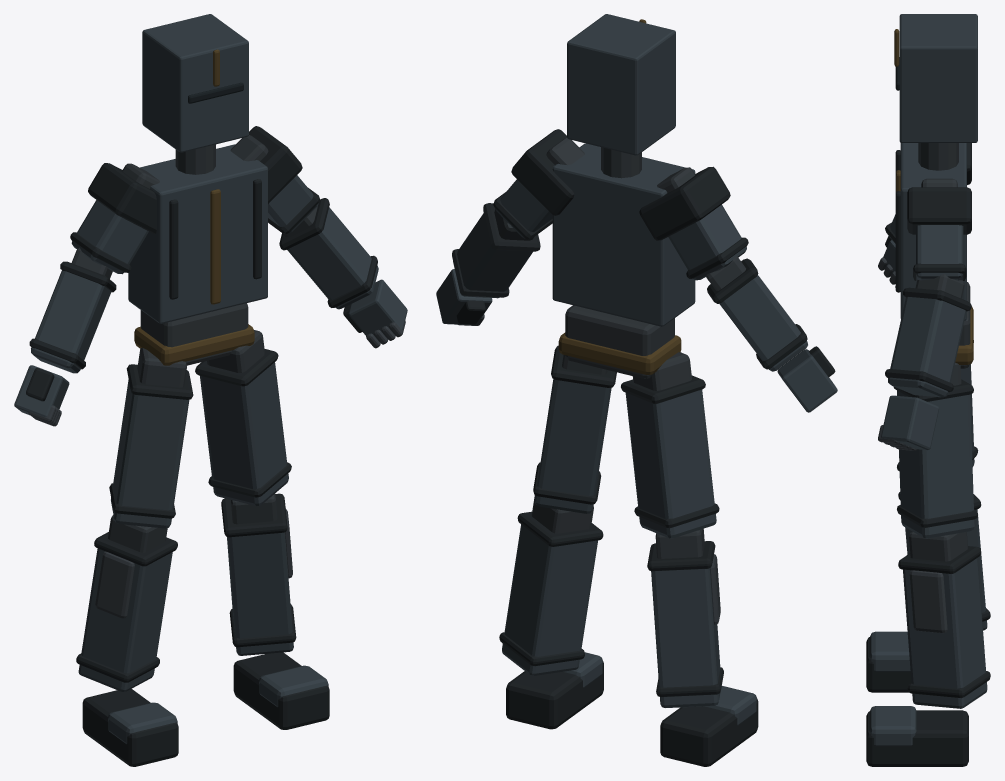
Rendered from AshenOath_Mannequin_Studio.fbx.
3 views of the same model, side by side, from view 1: azimuth 30°, elevation 25°; view 2: azimuth 150°, elevation 25°; view 3: azimuth 270°, elevation 25° (orthographic). The views are drawn at different scales.
Parts seen in each view (by area): view 1: mesh_0185, mesh_0186, mesh_0197, mesh_0193, mesh_0196, mesh_0194, mesh_0190, mesh_0191, mesh_0188, mesh_0195, mesh_0198, mesh_0184 (+3 smaller); view 2: mesh_0185, mesh_0186, mesh_0196, mesh_0194, mesh_0197, mesh_0193, mesh_0190, mesh_0184, mesh_0191, mesh_0198, mesh_0187, mesh_0188 (+3 smaller); view 3: mesh_0194, mesh_0186, mesh_0193, mesh_0188, mesh_0195, mesh_0187, mesh_0185, mesh_0189, mesh_0198, mesh_0197, mesh_0184, mesh_0192 (+1 smaller).
Part boxes in pixels (<box>): mesh_0185: <box>128,144,267,323</box>; mesh_0186: <box>142,14,248,174</box>; mesh_0197: <box>76,515,177,691</box>; mesh_0193: <box>195,330,291,505</box>; mesh_0196: <box>109,348,193,528</box>; mesh_0194: <box>221,493,296,655</box>; mesh_0190: <box>70,163,159,274</box>; mesh_0191: <box>29,247,116,373</box>; mesh_0188: <box>279,198,378,309</box>; mesh_0195: <box>233,652,329,729</box>; mesh_0198: <box>82,689,178,766</box>; mesh_0184: <box>134,303,254,365</box>; mesh_0185: <box>552,143,695,326</box>; mesh_0186: <box>567,14,675,178</box>; mesh_0196: <box>621,352,719,538</box>; mesh_0194: <box>499,495,603,675</box>; mesh_0197: <box>647,528,723,707</box>; mesh_0193: <box>533,345,616,513</box>; mesh_0190: <box>639,166,748,280</box>; mesh_0184: <box>558,305,681,378</box>; mesh_0191: <box>706,256,807,371</box>; mesh_0198: <box>660,686,758,766</box>; mesh_0187: <box>493,129,584,239</box>; mesh_0188: <box>452,203,540,298</box>; mesh_0194: <box>898,531,990,708</box>; mesh_0186: <box>894,14,977,170</box>; mesh_0193: <box>893,363,977,538</box>; mesh_0188: <box>885,274,971,397</box>; mesh_0195: <box>866,706,968,766</box>; mesh_0187: <box>907,178,971,281</box>; mesh_0185: <box>895,143,966,320</box>; mesh_0189: <box>878,395,939,450</box>; mesh_0198: <box>866,631,911,692</box>; mesh_0197: <box>898,492,990,630</box>; mesh_0184: <box>955,282,973,368</box>; mesh_0192: <box>878,235,895,287</box>.
Bounding box in the file's own units: 339 × 564 × 92.07.
Materials: 1 (1 with a texture image).
